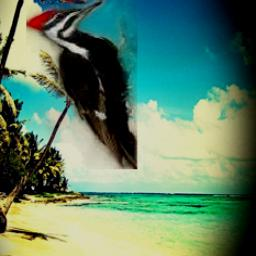Woodpecker: (27, 0, 138, 169)
